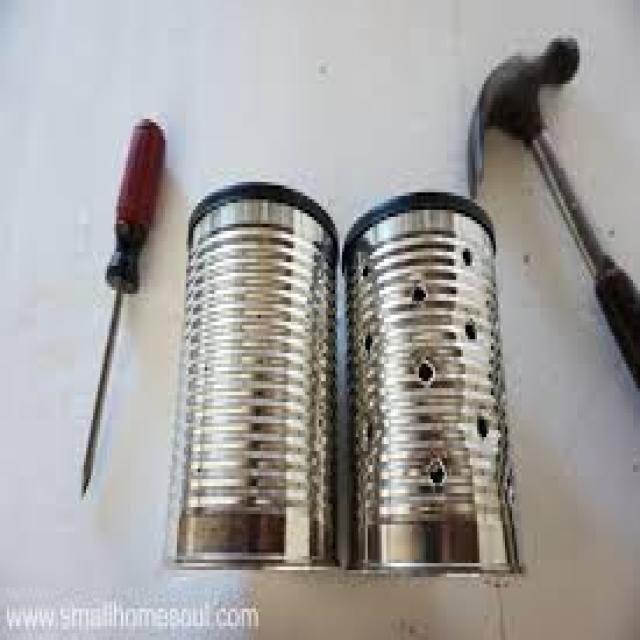metal: (340, 186, 521, 581), (168, 182, 338, 570), (463, 32, 577, 193), (528, 122, 603, 273), (77, 283, 121, 497)
